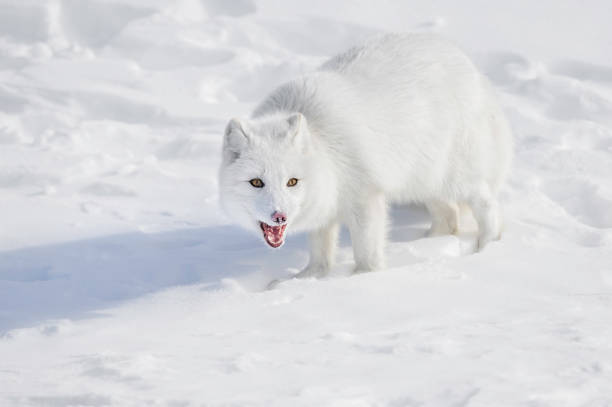arcticfox: (225, 138, 313, 266)
